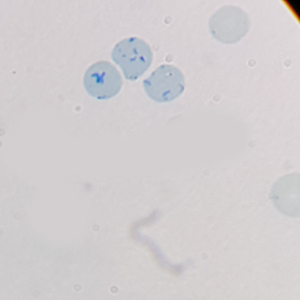aggregate reticulocyte: (109, 36, 155, 81), (142, 62, 187, 104), (82, 59, 125, 101)
punctate reticulocyte: (207, 4, 252, 46)
